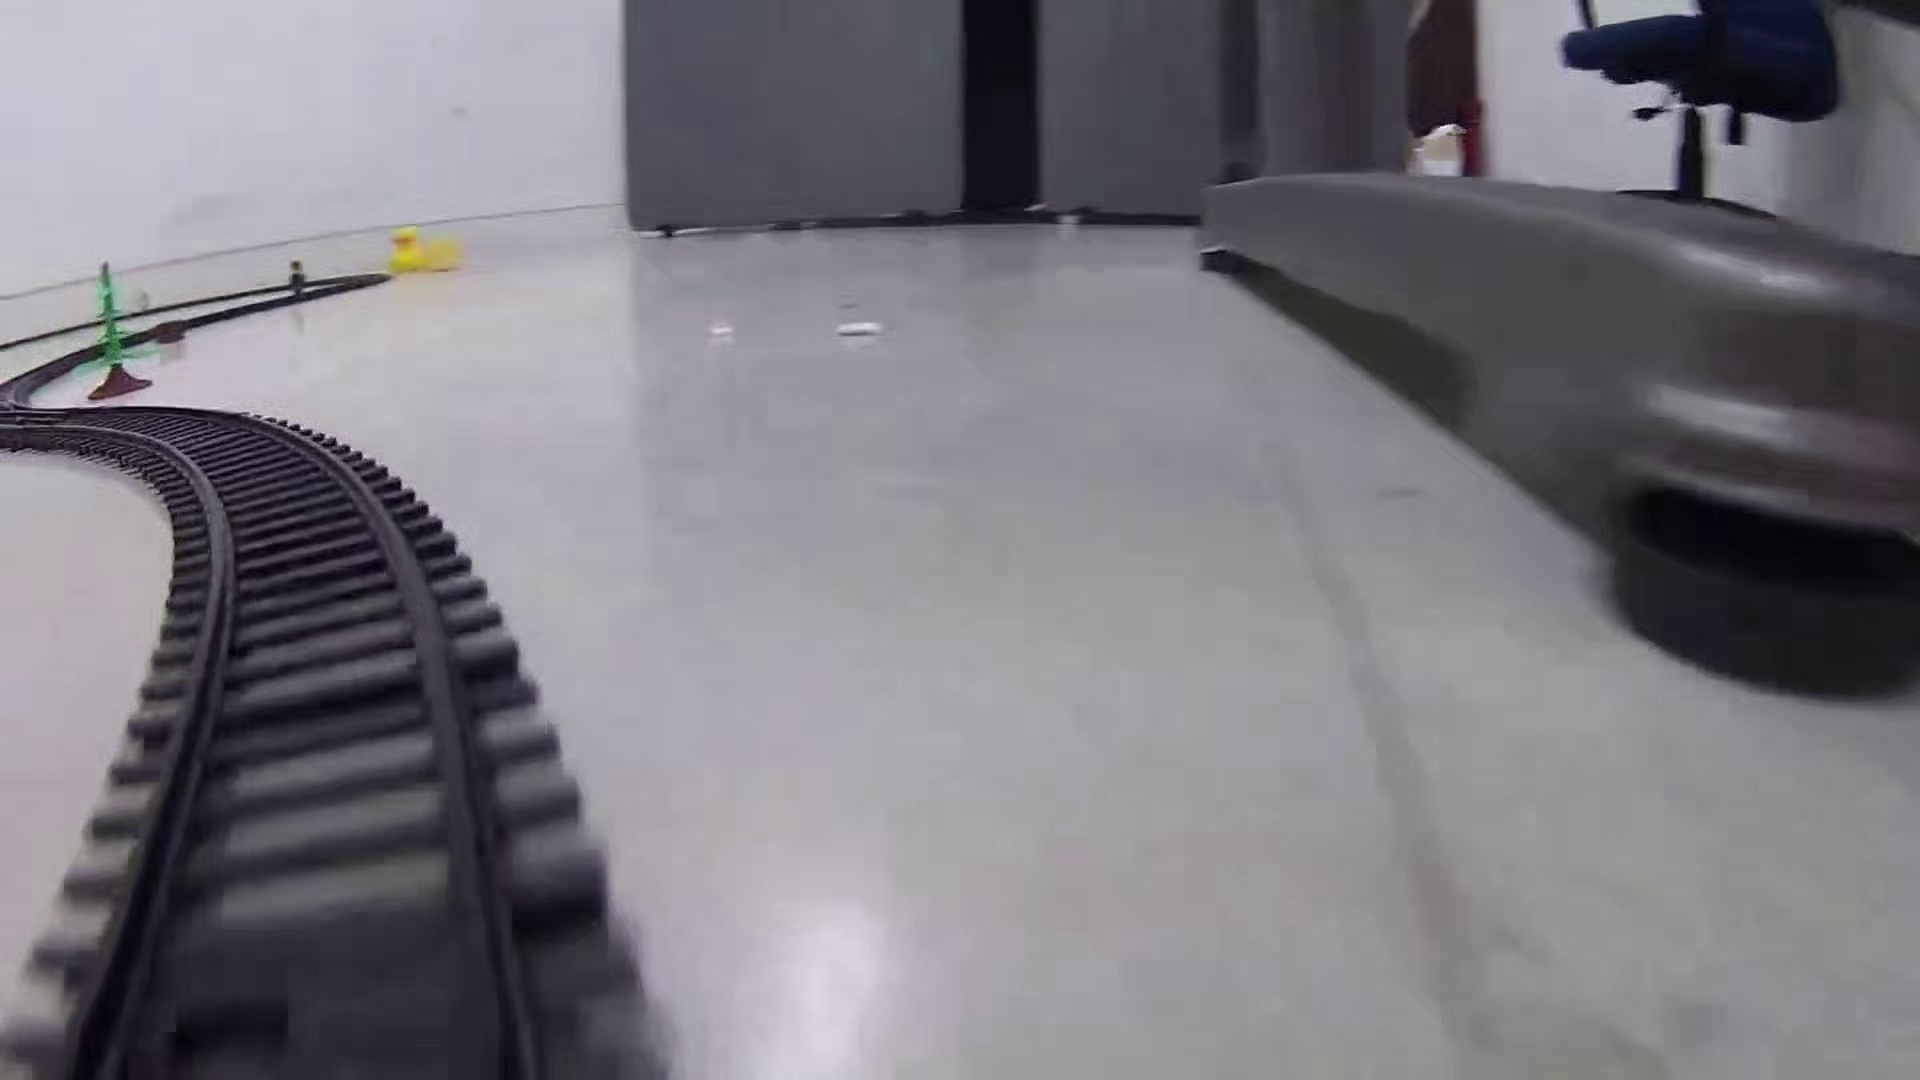box: (151, 314, 188, 346)
people: (286, 259, 308, 305)
tree: (85, 261, 155, 403)
